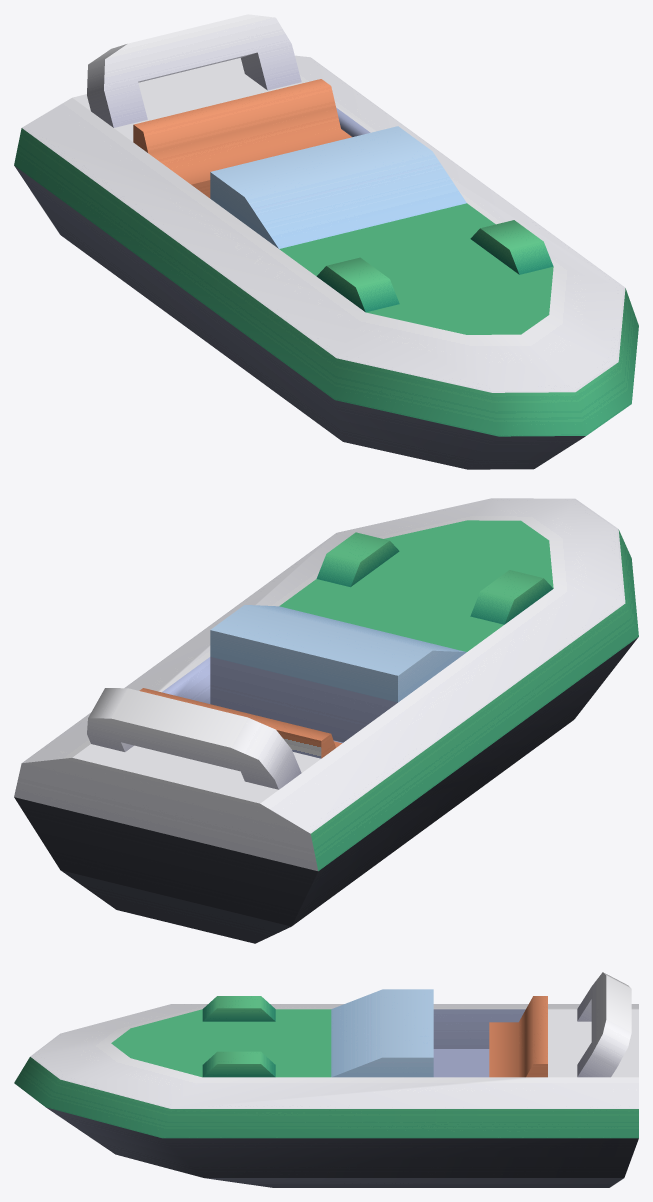
The model's file is boat-speed-j.glb.
3 views of the same model, one above another, from view 1: azimuth 30°, elevation 25°; view 2: azimuth 150°, elevation 25°; view 3: azimuth 270°, elevation 25° (orthographic). The views are drawn at different scales.
Visible parts, largest first — view 1: boat-speed-j; view 2: boat-speed-j; view 3: boat-speed-j.
Boxes of the visible parts, left/top/right/bottom form: boat-speed-j: left=14, top=14, right=638, bottom=469; boat-speed-j: left=14, top=498, right=638, bottom=943; boat-speed-j: left=14, top=972, right=638, bottom=1187.
Bounding box in the file's own units: 6.07 × 4.24 × 14.52.
1 material, 1 textured.
